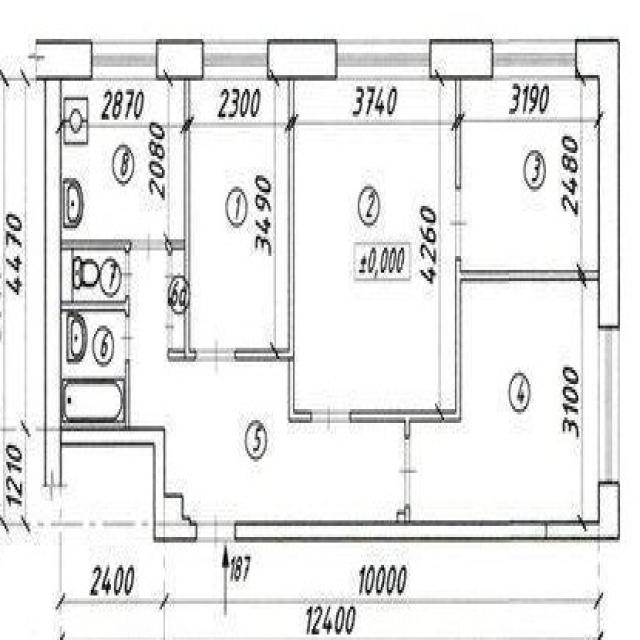Bathrooms: (63, 313, 124, 425), (63, 253, 124, 301)
Corridors: (130, 252, 403, 521)
Doors: (197, 510, 235, 555), (198, 336, 234, 379), (448, 191, 469, 258), (398, 440, 419, 505), (313, 399, 349, 434), (133, 228, 164, 264), (118, 317, 136, 361), (118, 253, 137, 294), (161, 252, 178, 295), (164, 307, 175, 344)
LBwalls: (575, 38, 620, 331), (45, 80, 62, 487), (267, 38, 338, 82), (429, 39, 493, 80), (35, 39, 93, 81), (156, 39, 204, 80), (153, 494, 184, 543), (598, 482, 619, 540)
Offices: (295, 83, 454, 408), (412, 282, 597, 521), (191, 80, 287, 348), (464, 83, 597, 268), (63, 82, 182, 237)
Walls: (349, 257, 599, 442), (234, 80, 312, 424), (165, 80, 199, 363), (62, 427, 167, 494), (233, 521, 599, 539), (62, 294, 129, 318), (62, 241, 133, 252), (455, 81, 462, 191), (183, 516, 198, 544), (125, 359, 130, 428), (397, 505, 413, 521)
Windows: (337, 40, 428, 81), (493, 39, 576, 79), (598, 329, 619, 484), (93, 39, 156, 80), (203, 39, 267, 79)
